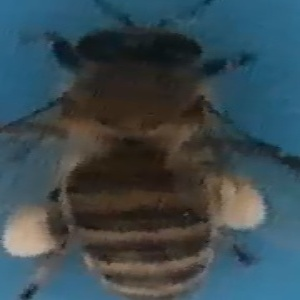bee: (2, 8, 287, 300)
